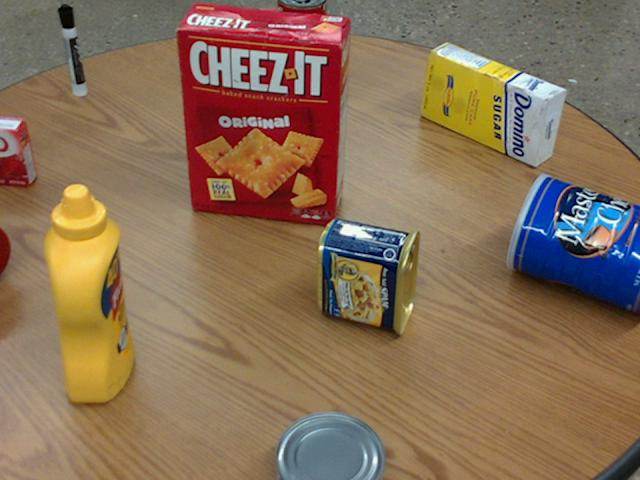cracker_box: (177, 4, 350, 220)
gelatin_box: (0, 117, 39, 185)
large_marker: (59, 5, 87, 95)
master_chef_can: (506, 172, 639, 313)
mug: (0, 223, 13, 277)
mustard_bottle: (44, 183, 134, 400)
potted_meat_can: (317, 217, 419, 335)
sugar_box: (421, 42, 567, 165)
tomato_soup_can: (278, 0, 327, 74)
tuna_fish_can: (273, 411, 383, 479)
